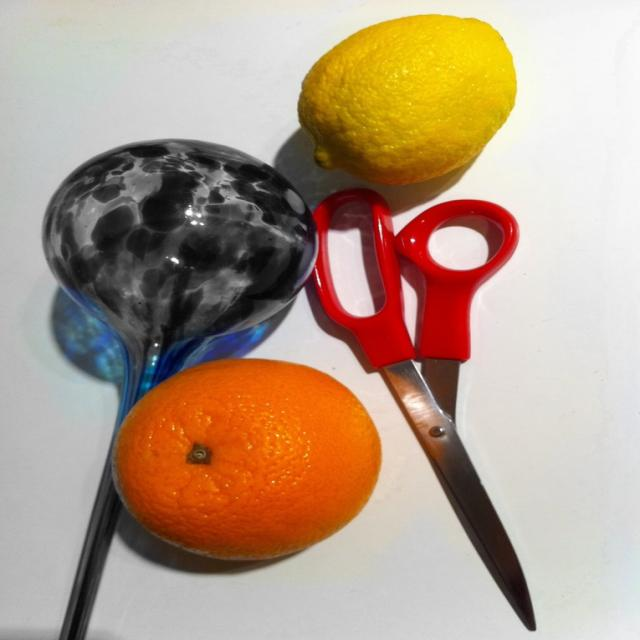scissors: (310, 187, 537, 631)
